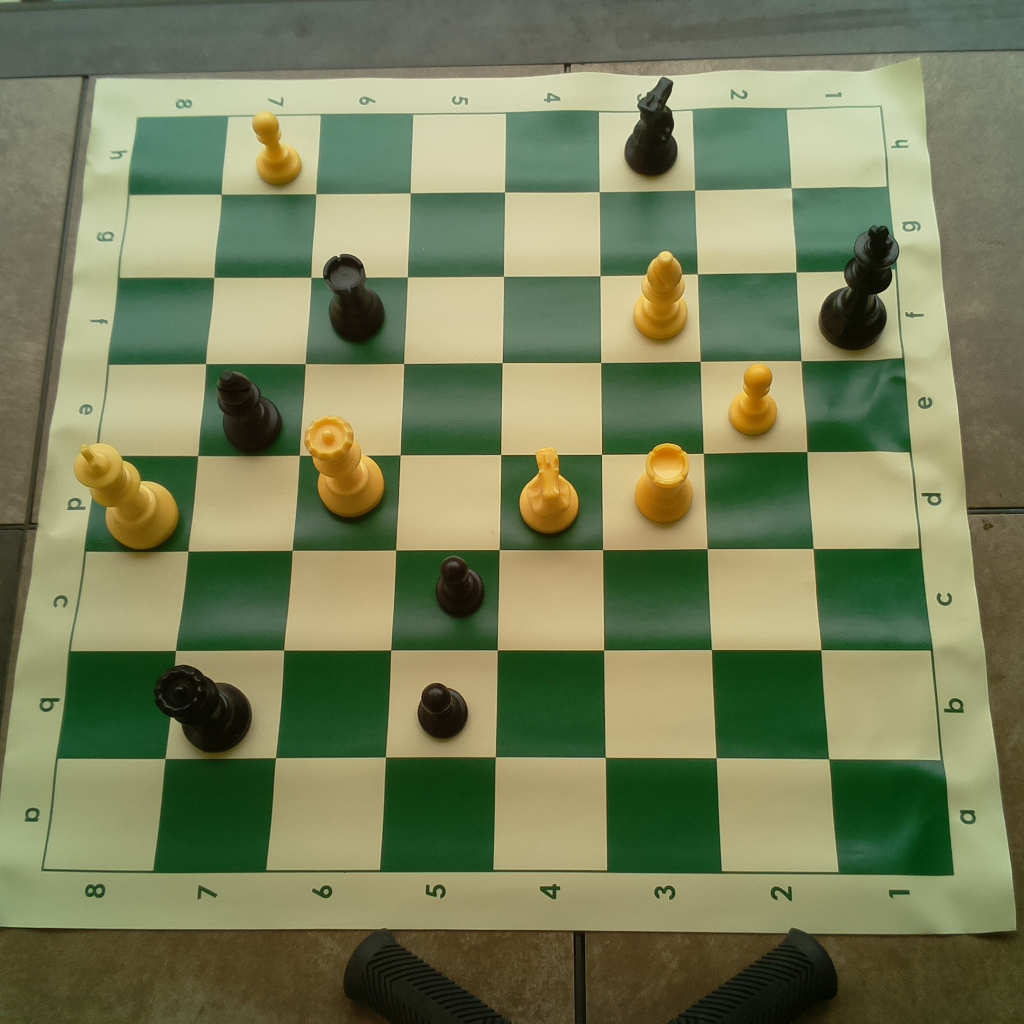black_bishop: (208, 365, 283, 451)
black_king: (814, 222, 902, 352)
black_knight: (610, 71, 683, 177)
black_pawn: (416, 675, 473, 741), (434, 552, 490, 617)
black_queen: (153, 658, 257, 752)
black_rook: (318, 249, 388, 347)
file_a: (41, 757, 953, 878)
file_b: (54, 652, 941, 758)
file_c: (71, 552, 936, 653)
file_d: (83, 451, 921, 549)
file_e: (98, 354, 911, 452)
file_f: (106, 269, 899, 360)
file_g: (118, 186, 897, 278)
file_h: (129, 104, 889, 193)
outline: (45, 108, 953, 877)
rank_1: (785, 105, 954, 877)
rank_2: (692, 106, 841, 873)
rank_3: (598, 108, 721, 870)
rank_4: (490, 110, 607, 869)
rank_5: (380, 113, 510, 869)
rank_6: (264, 112, 414, 873)
rank_7: (151, 114, 321, 871)
rank_8: (42, 117, 227, 871)
white_bishop: (629, 249, 690, 341)
white_king: (71, 435, 183, 551)
white_knight: (514, 447, 585, 535)
white_pawn: (727, 357, 783, 432), (247, 113, 302, 186)
white_queen: (296, 409, 390, 523)
white_rook: (629, 436, 698, 527)
